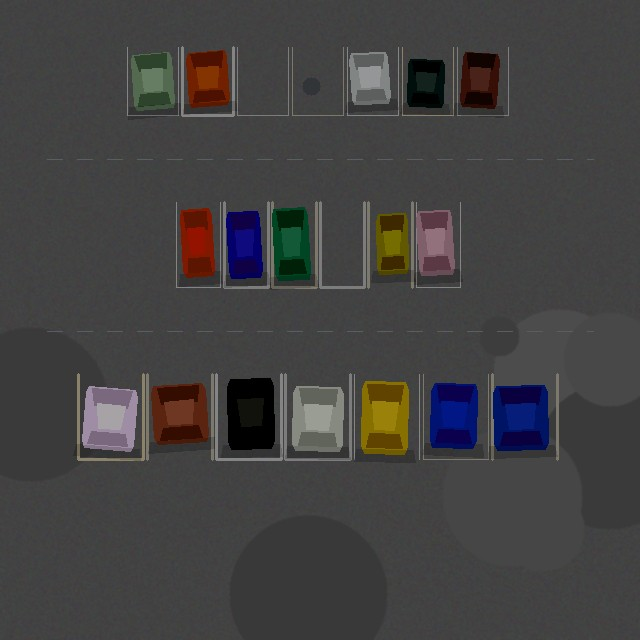space-empty: (320, 202, 364, 287), (237, 47, 288, 115), (292, 47, 343, 115)
space-occupied: (78, 374, 143, 459), (147, 374, 212, 459), (216, 374, 281, 459), (285, 374, 350, 459), (354, 374, 419, 459), (423, 374, 488, 459), (492, 374, 557, 459), (176, 202, 220, 287), (224, 202, 268, 287), (272, 202, 316, 287), (368, 202, 412, 287), (416, 202, 460, 287), (127, 47, 178, 115), (182, 47, 233, 115), (347, 47, 398, 115), (402, 47, 453, 115), (457, 47, 508, 115)
